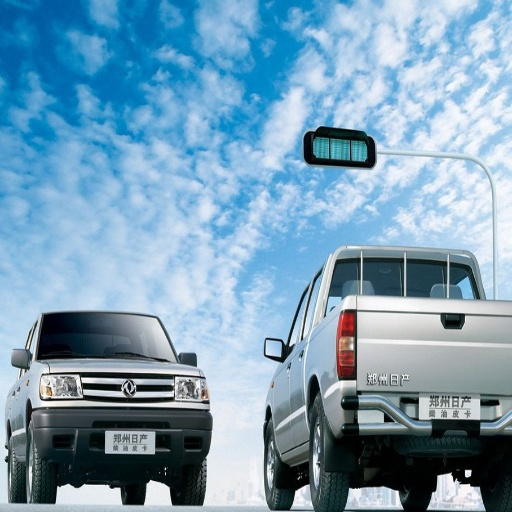back_glass: (74, 315, 165, 356)
front_bumper: (58, 373, 201, 433)
trunk: (354, 299, 509, 405)
